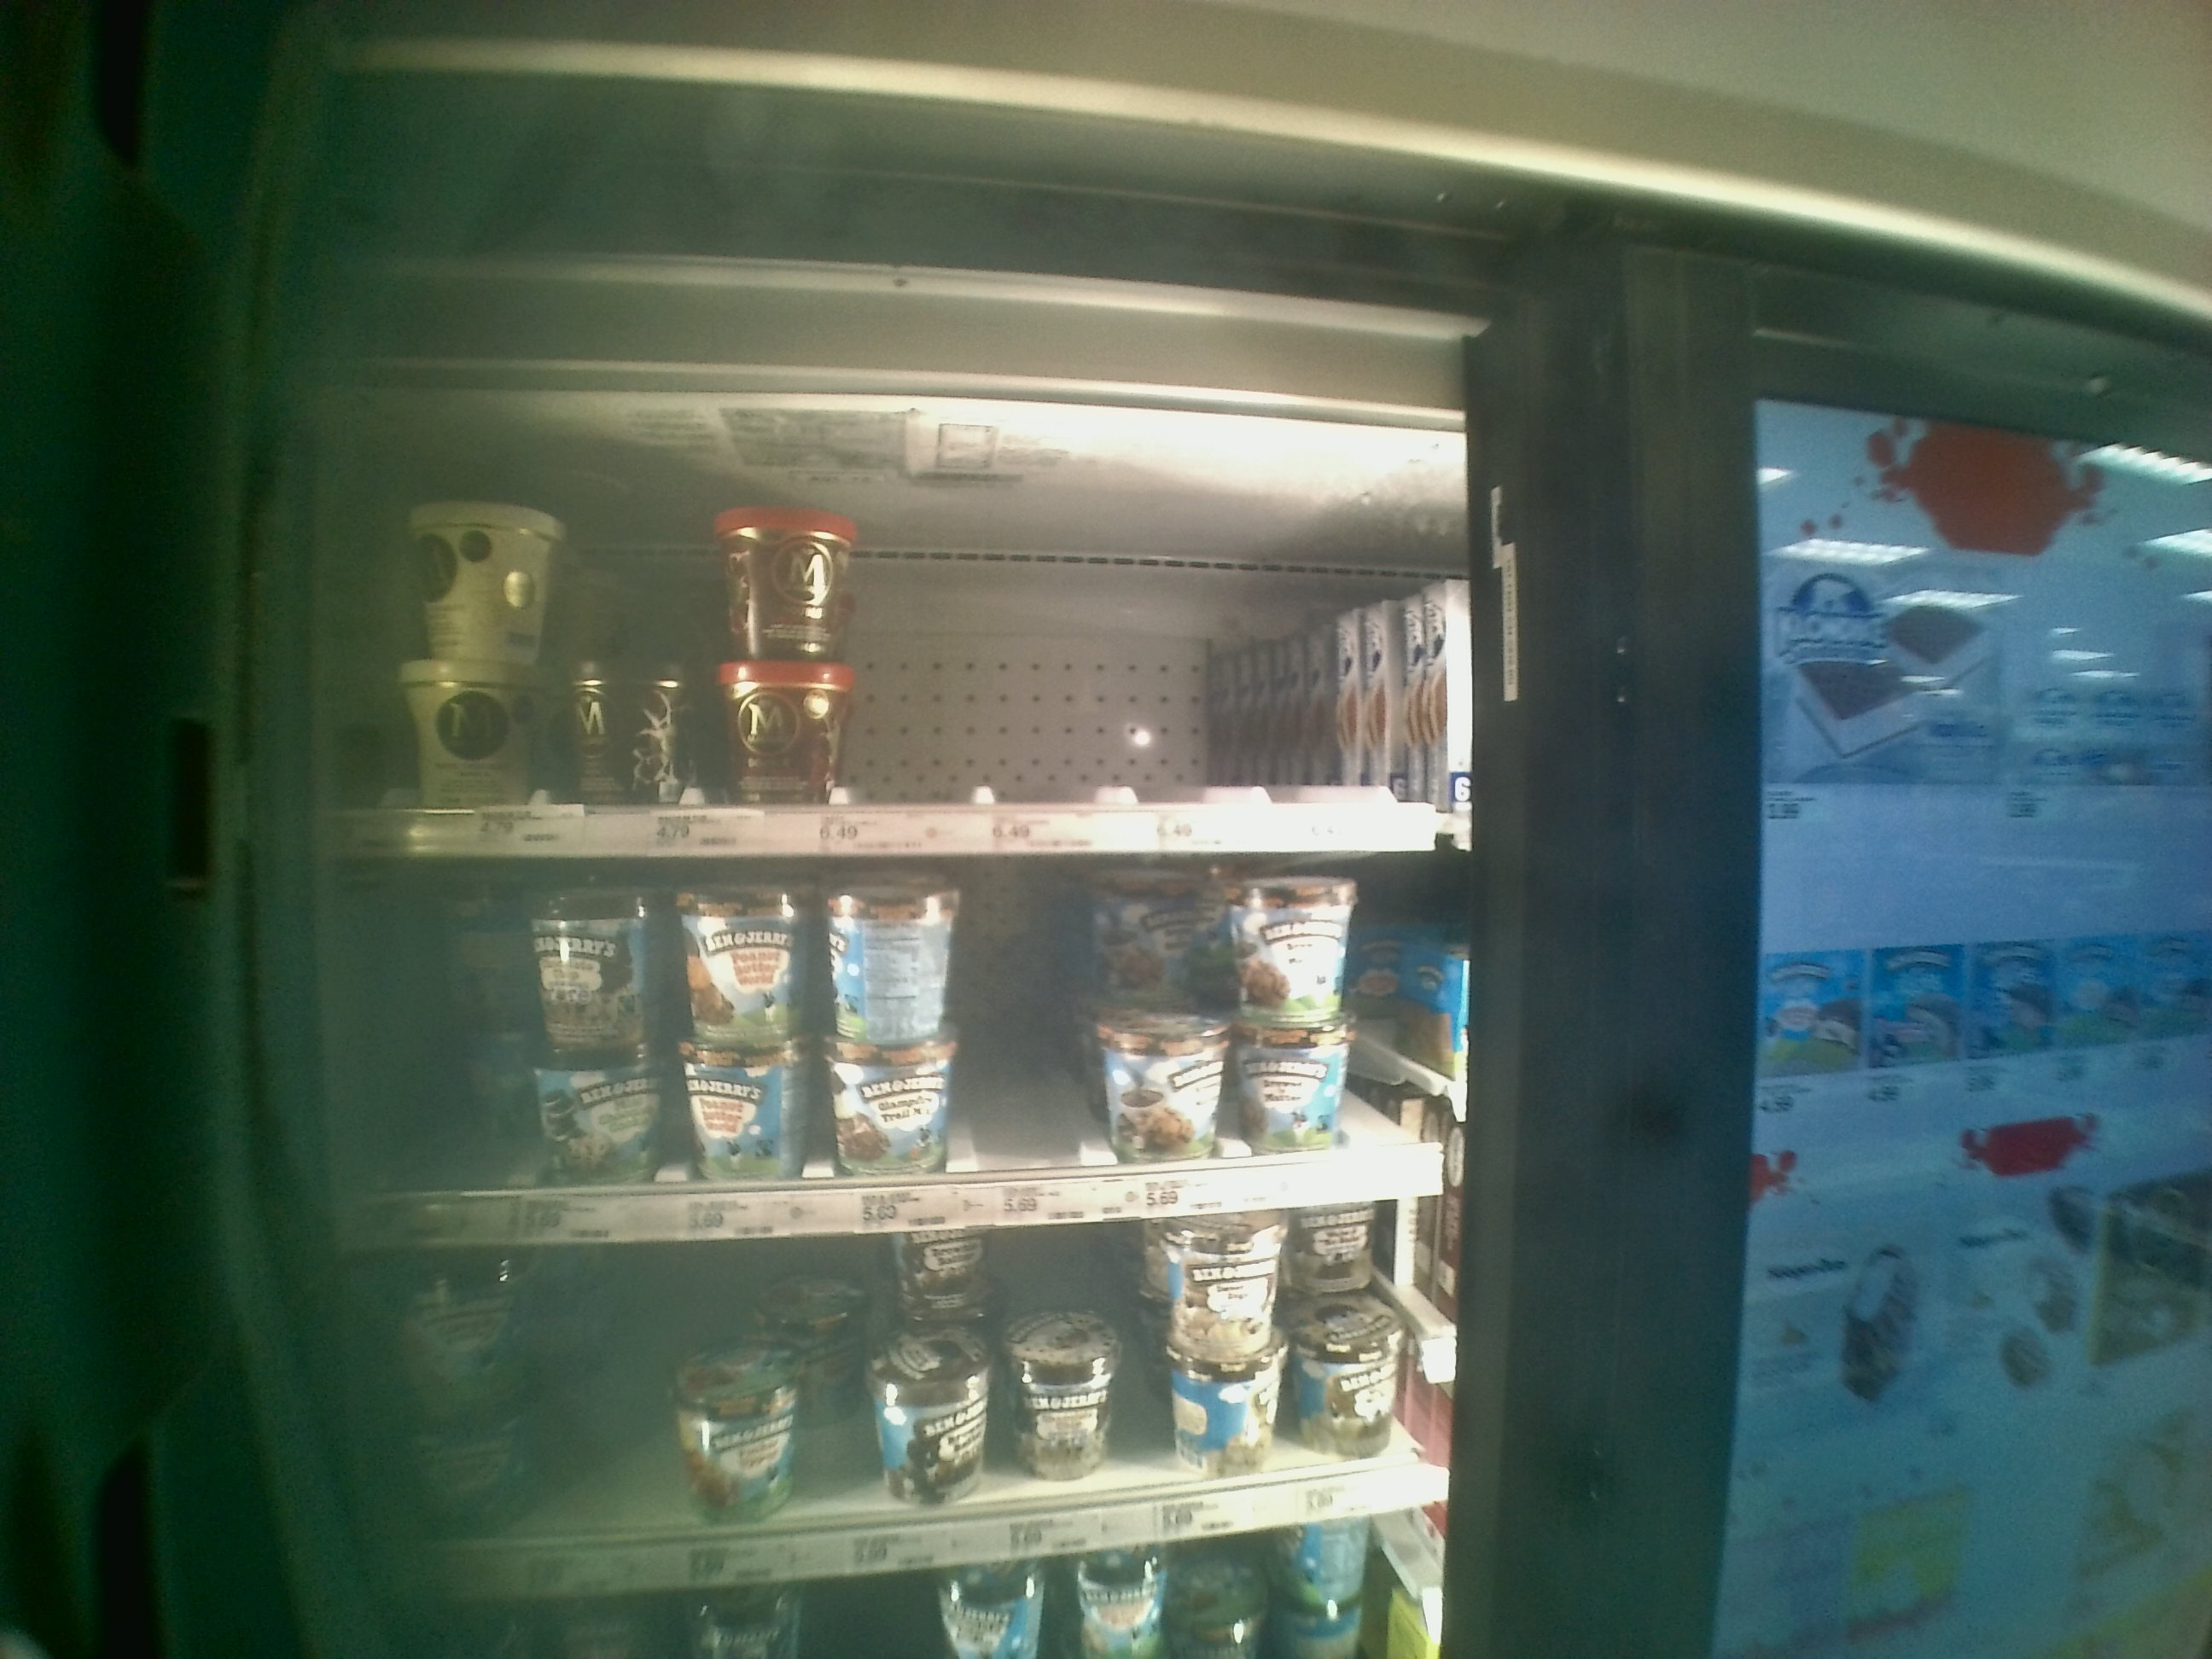ice-cream-shelf: (343, 413, 1439, 849), (340, 847, 1524, 1248)
